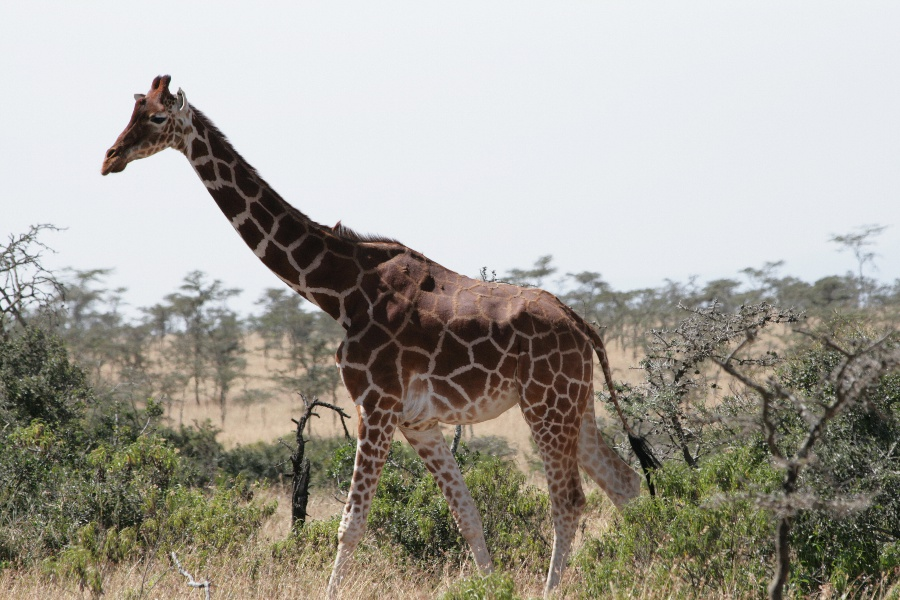giraffe: (87, 65, 668, 598)
